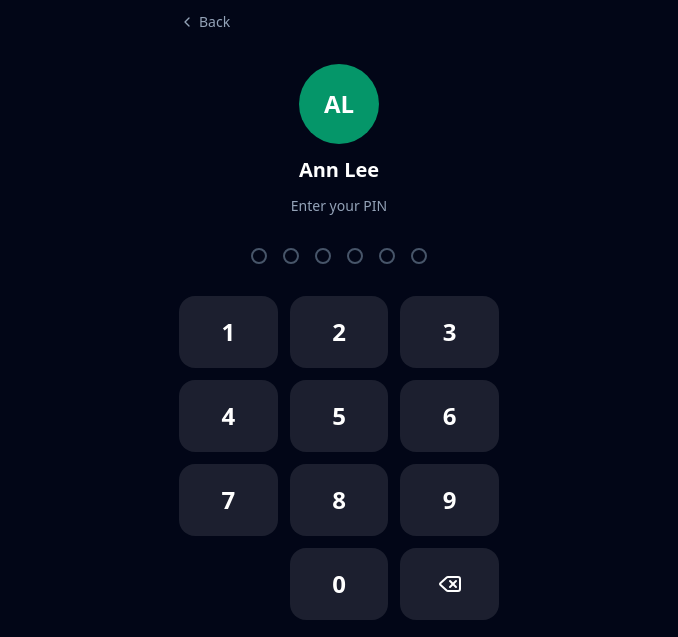
Test: POS login on an unregistered till › shows the message for a refused PIN sign-in, sent once
Earlier steps of the test are not shown.
Click the button "1" at (228, 332), box [179,296,278,368]
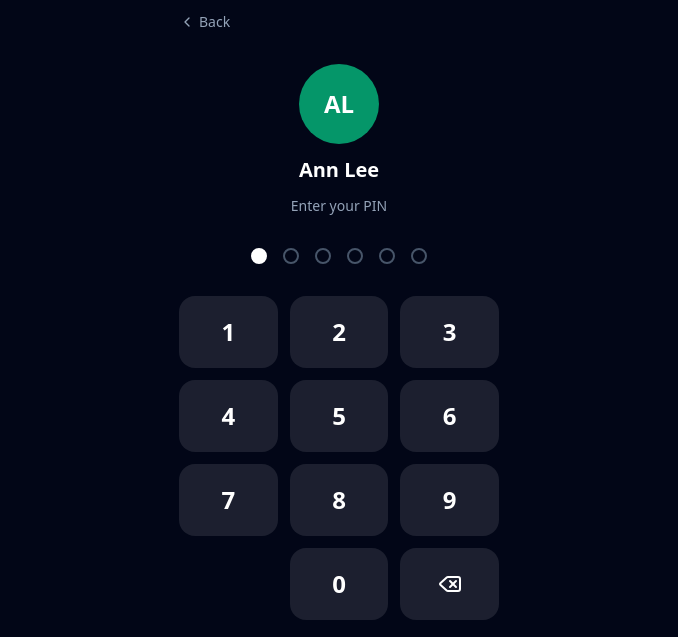
Click the button "2" at (339, 332), box [290,296,388,368]
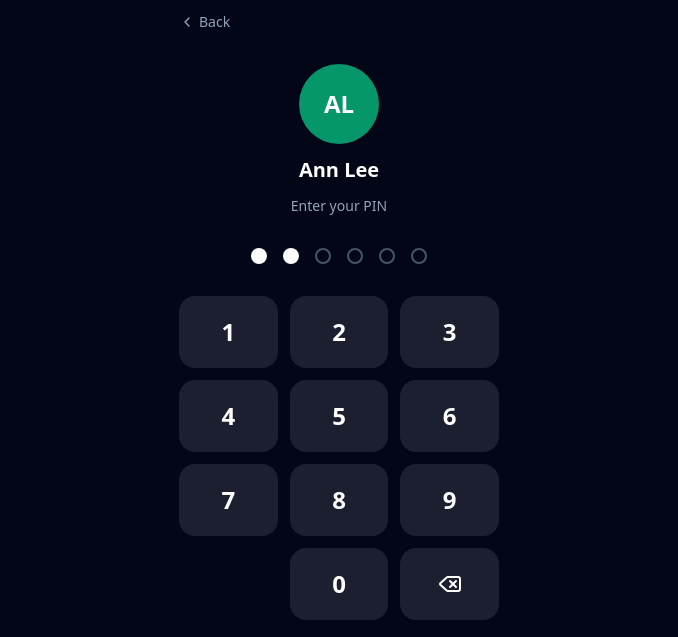
Click the button "3" at (450, 332), box [400,296,499,368]
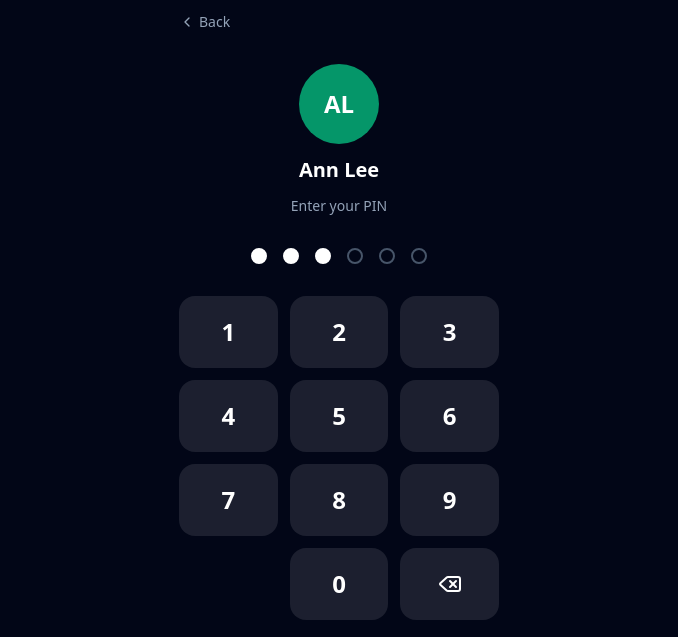
Click the button "4" at (228, 416), box [179,380,278,452]
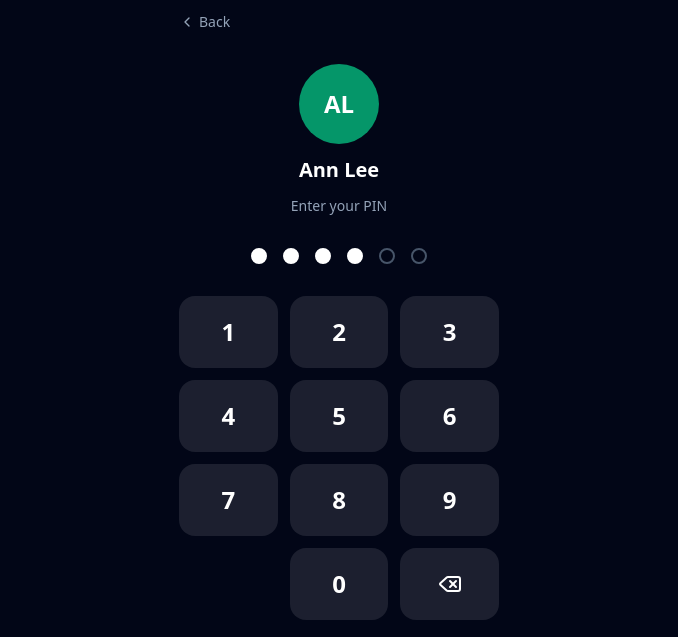
Click the button "5" at (339, 416), box [290,380,388,452]
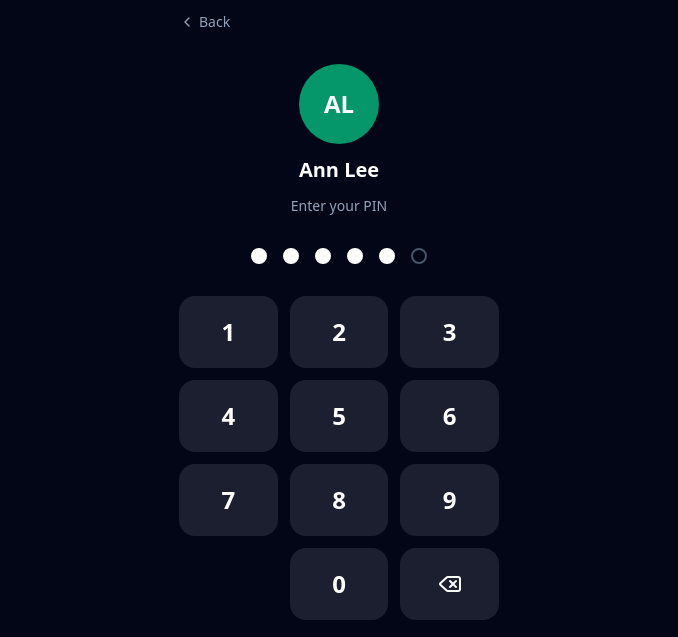
Click the button "6" at (450, 416), box [400,380,499,452]
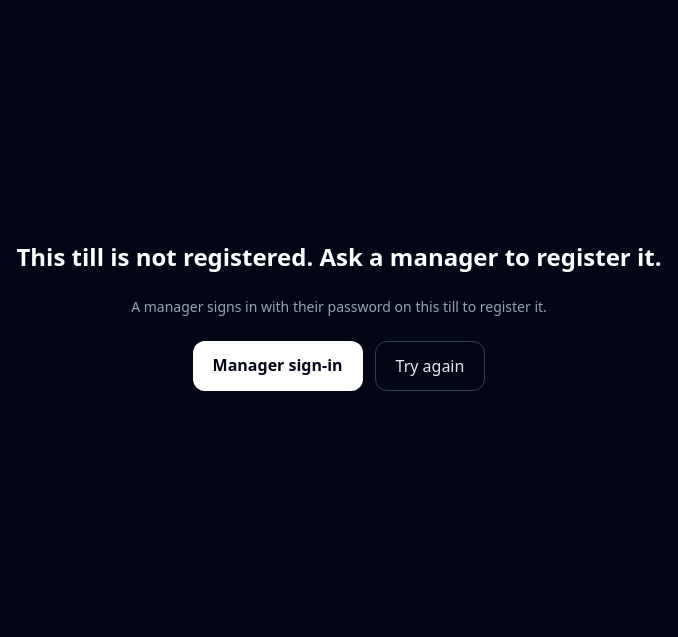
Result: the heading "This till is not registered. Ask a manager to register it." is shown at [16,241,662,273]
